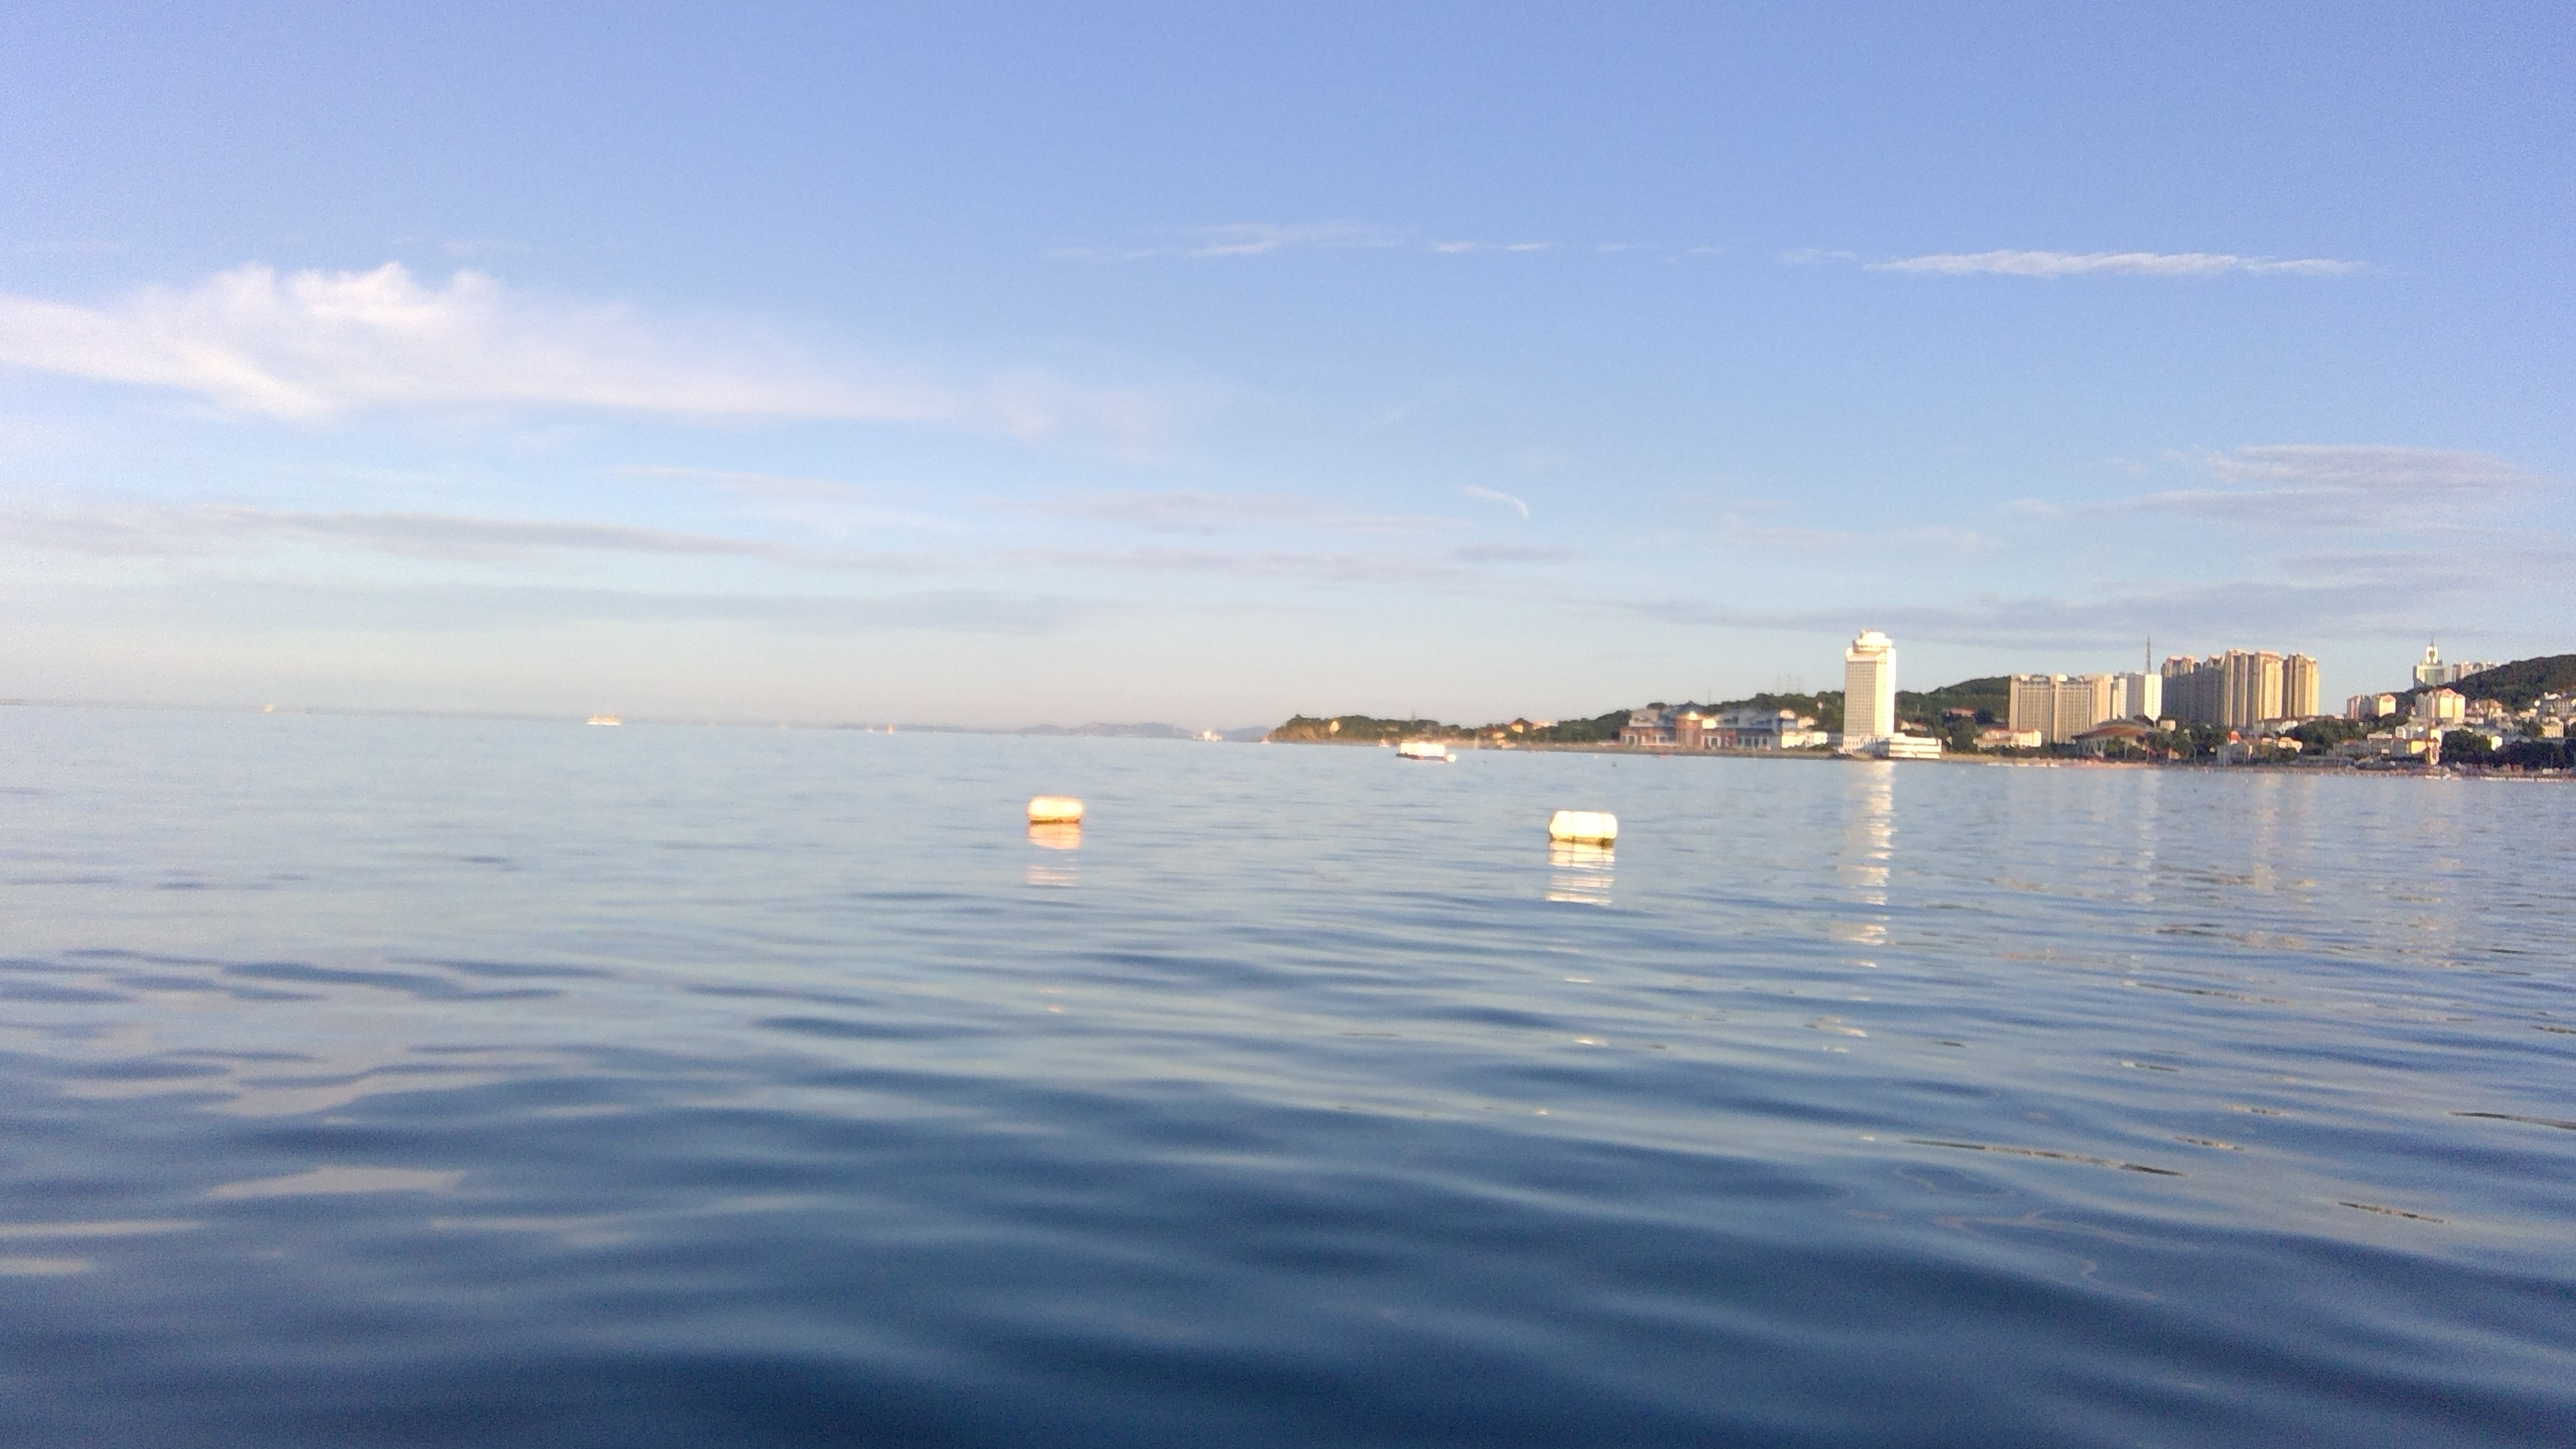ball: (1525, 798, 1628, 847), (1019, 789, 1090, 830)
